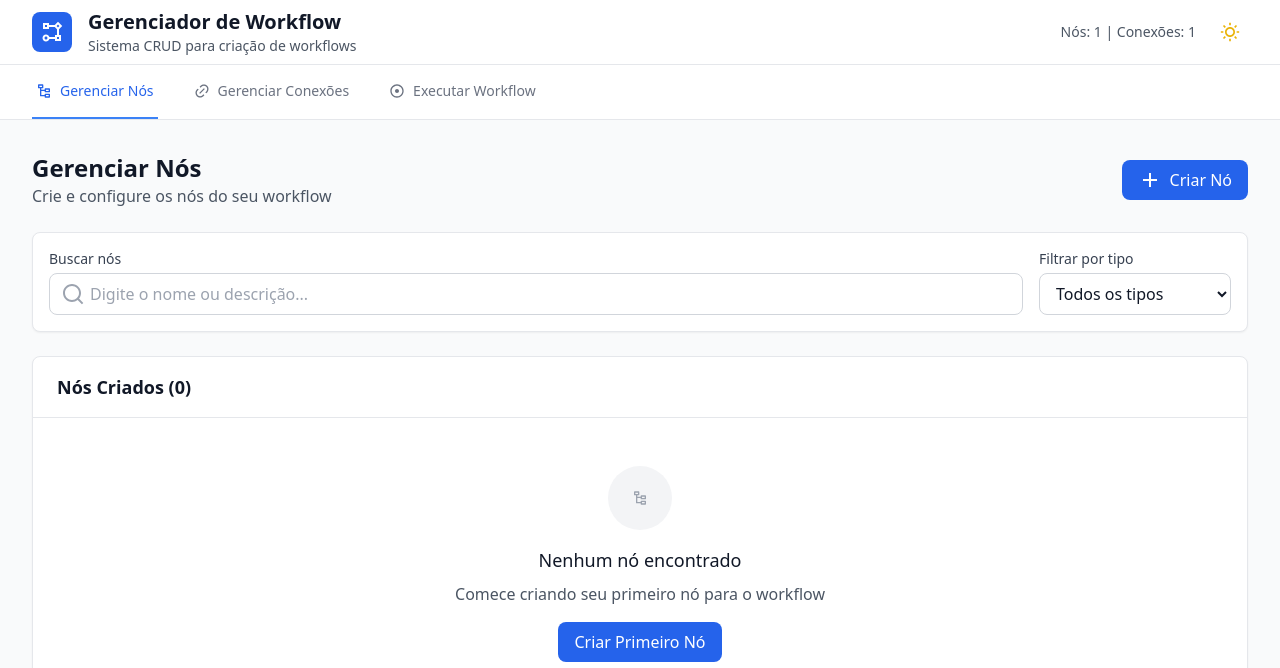
Criação de Nó › deve cancelar a criação de nó
Clica no botão "Criar Nó"
Step 1. Click the button "Criar Nó" → (1185, 180), box [1122,160,1248,200]
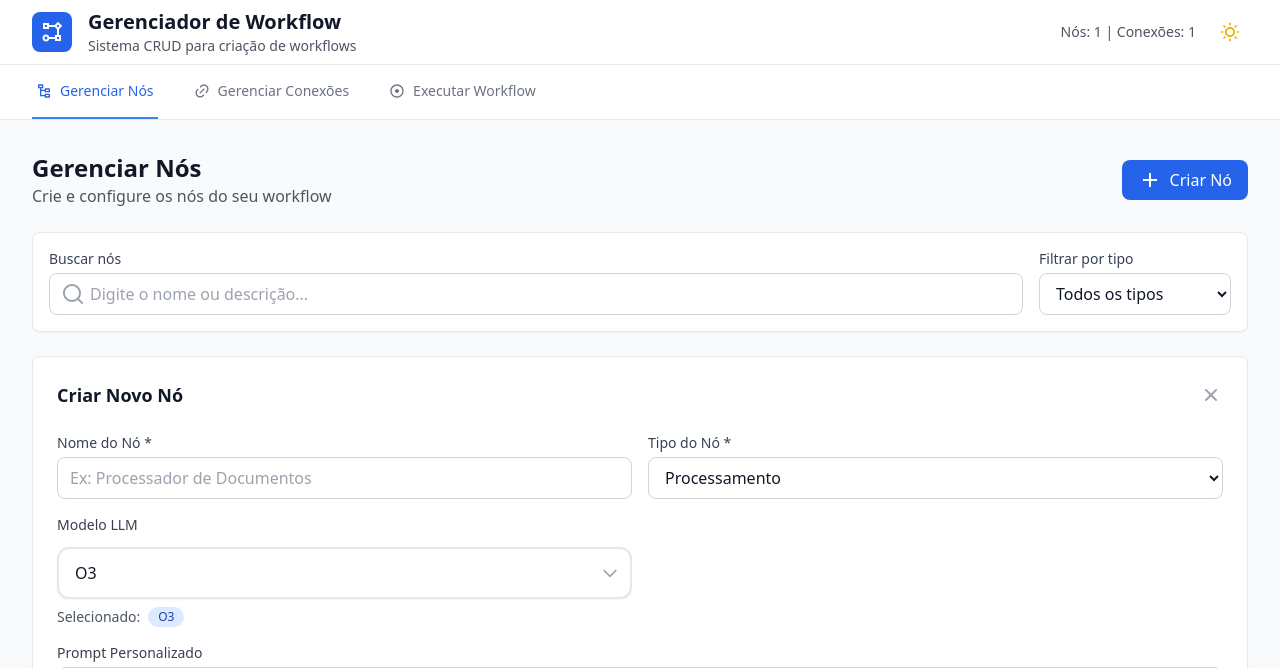
Preenche alguns campos
Step 2. Type "Nó para Cancelar" into the field with test id "node-name-input" → (345, 478), box [57,457,632,499]
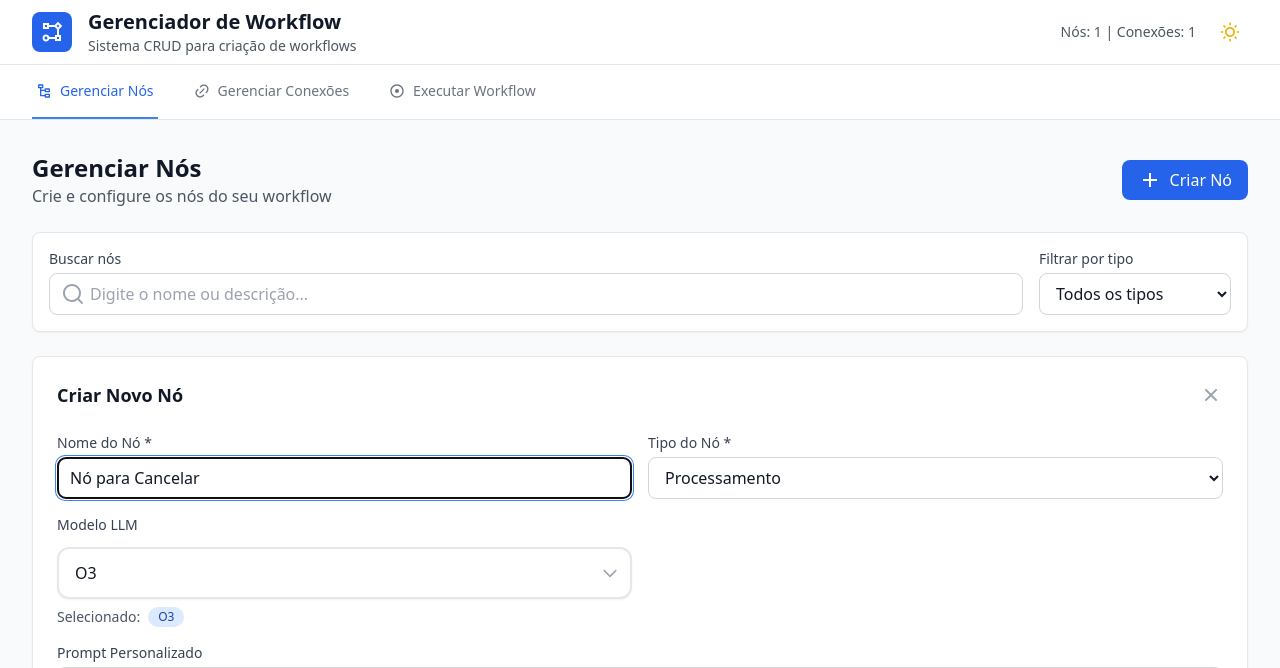
Step 3. Scroll
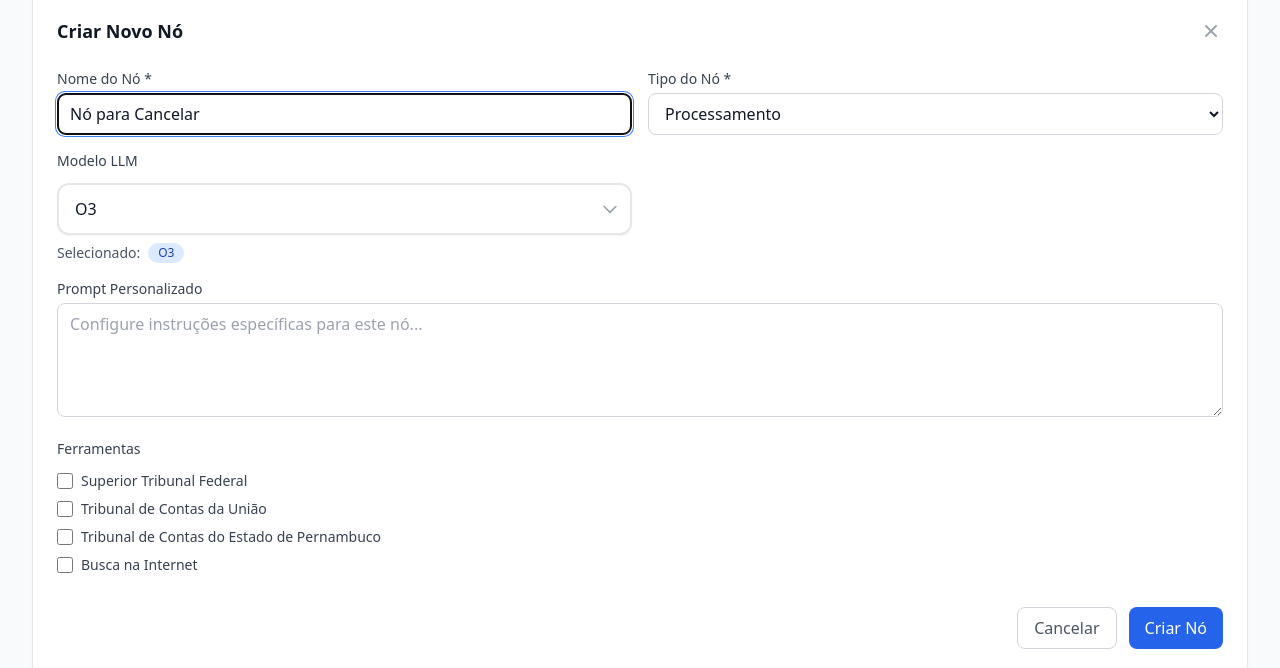
Step 4. Type "Prompt que será cancelado" into the text box with test id "node-prompt-textarea" → (640, 360), box [57,303,1223,417]
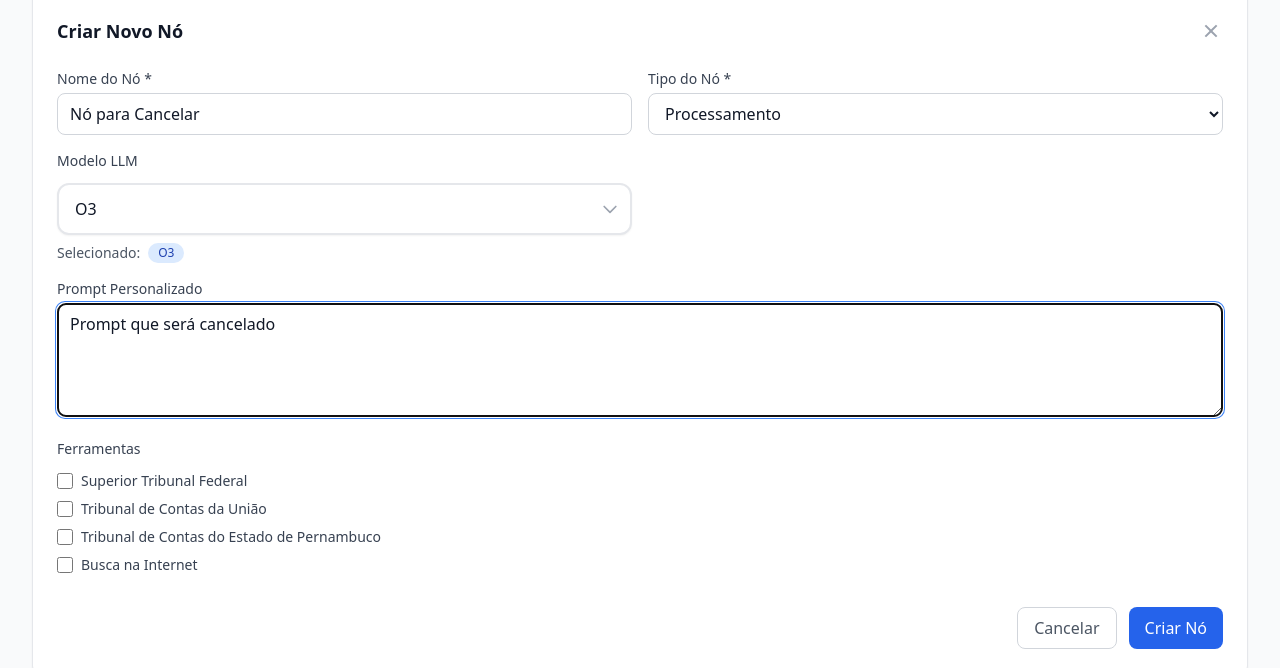
Clica no botão cancelar
Step 5. Click the button with test id "cancel-button" → (1067, 628), box [1017,607,1116,649]
(page scrolled)
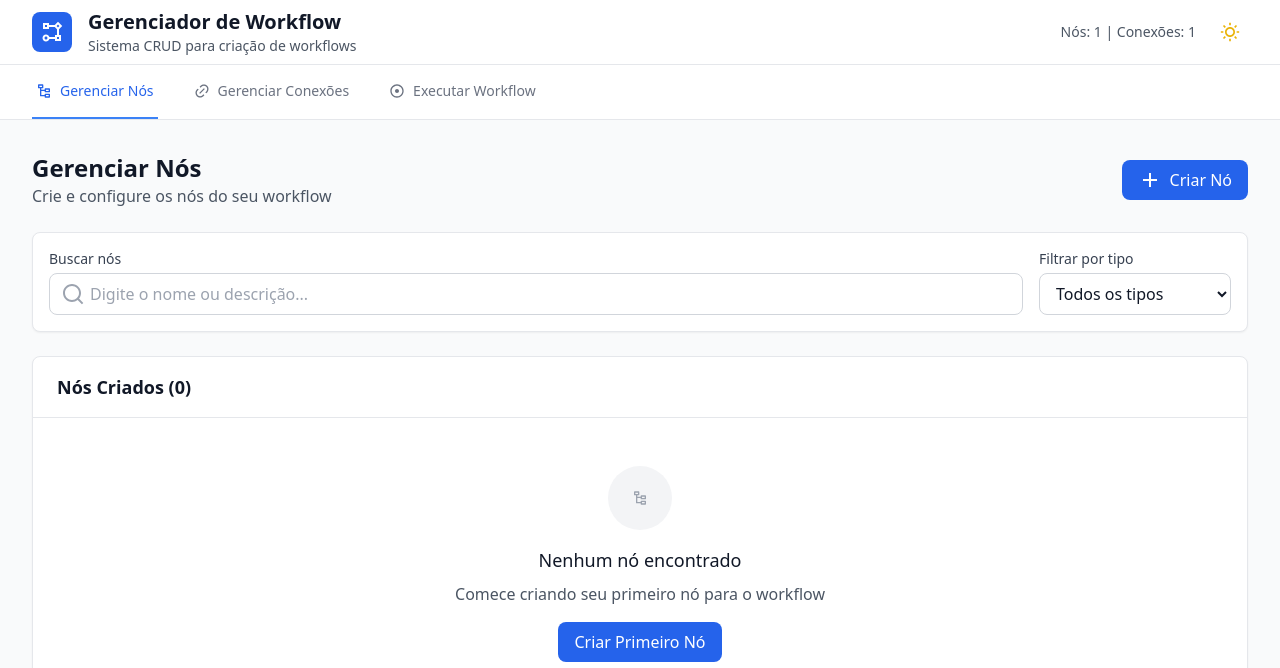
Expected: the text "Nó para Cancelar" is not shown
Expected: the heading "Criar Novo Nó" is gone
